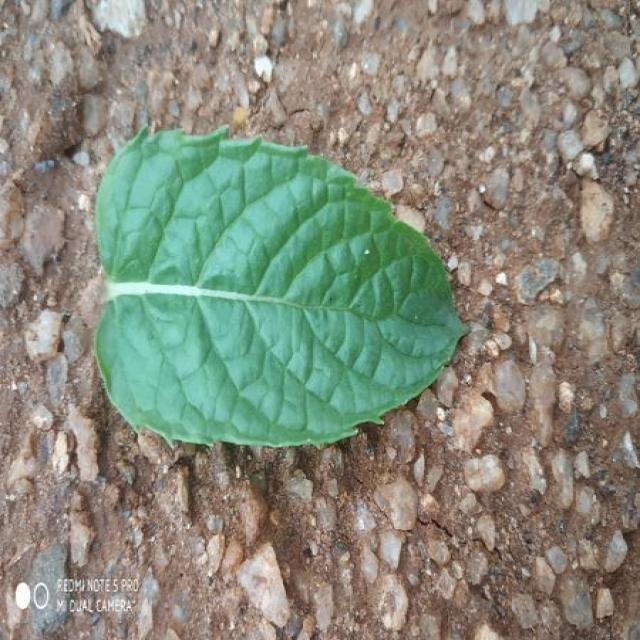mint: (95, 128, 465, 446)
